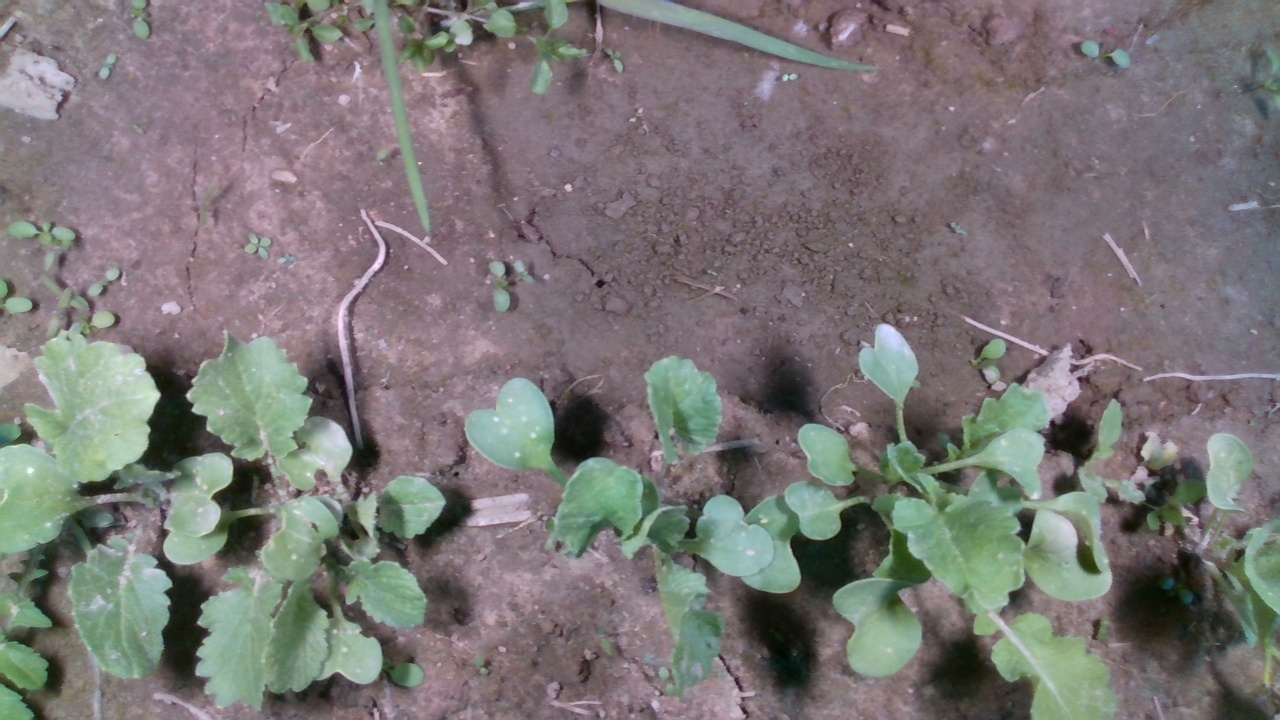weed: (6, 219, 78, 243), (1079, 39, 1132, 69), (488, 260, 511, 313), (86, 266, 121, 298), (242, 231, 272, 259), (98, 50, 118, 80), (512, 259, 534, 284), (603, 46, 624, 72), (780, 70, 799, 83)
